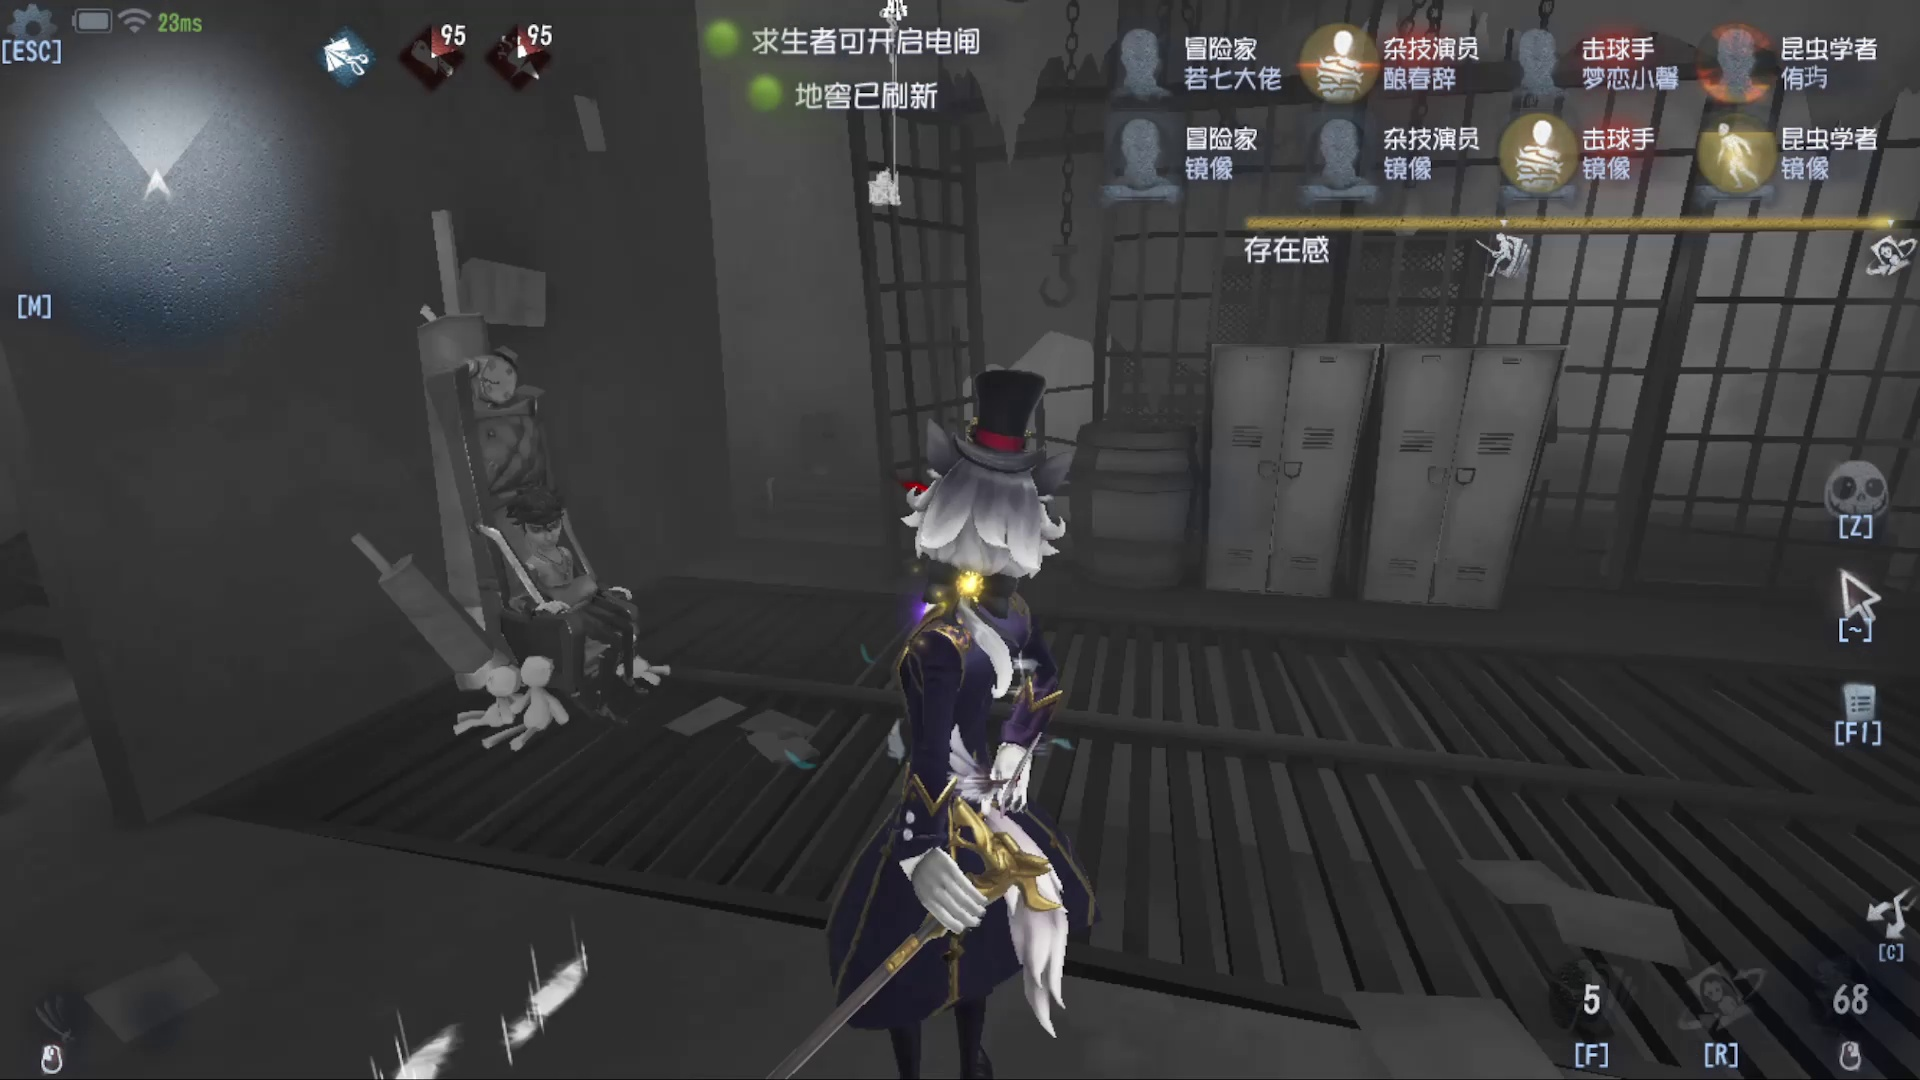求生者: (512, 479, 621, 644)
狂欢之椅: (373, 218, 673, 742)
